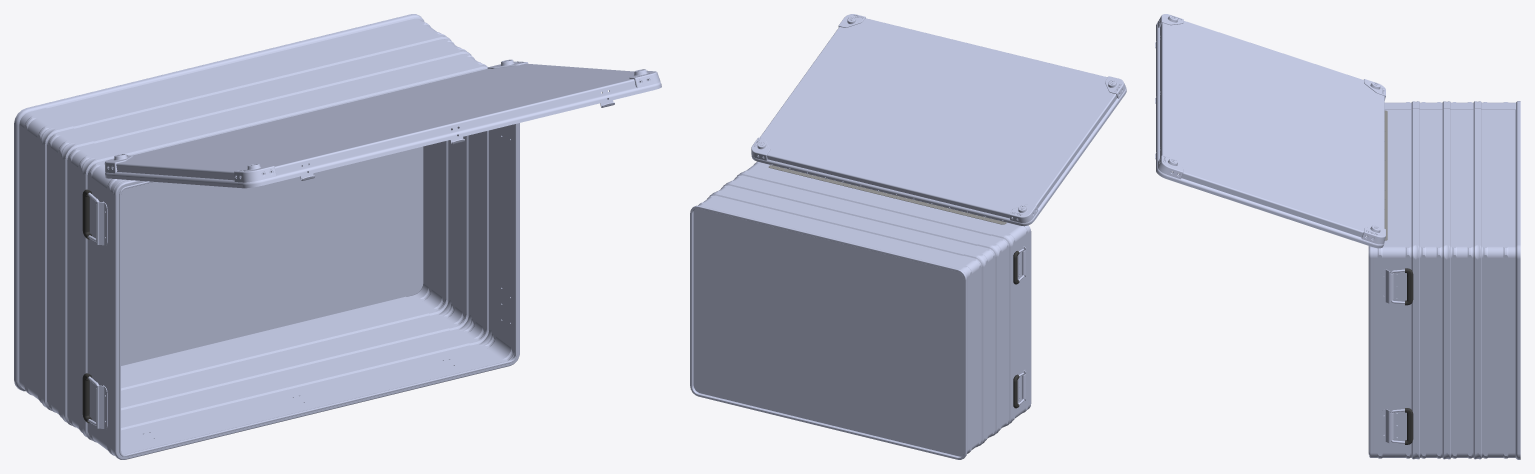
Rendered from case2.obj.
3 renders of one model, left to right at view 1: azimuth 30°, elevation 25°; view 2: azimuth 150°, elevation 25°; view 3: azimuth 270°, elevation 25°, orthographic. The views are drawn at different scales.
Parts seen in each view (by area): view 1: Volumenkörper6, Volumenkörper2:1; view 2: Volumenkörper6, Volumenkörper2:1; view 3: Volumenkörper6, Volumenkörper2:1.
Part boxes in pixels (x1,y1,x2,y2): Volumenkörper6: [14, 14, 519, 459]; Volumenkörper2:1: [104, 59, 661, 188]; Volumenkörper6: [690, 161, 1031, 459]; Volumenkörper2:1: [751, 14, 1126, 226]; Volumenkörper6: [1368, 101, 1520, 459]; Volumenkörper2:1: [1155, 14, 1385, 248].
Bounding box in the file's own units: 1188 × 1082 × 1187.
